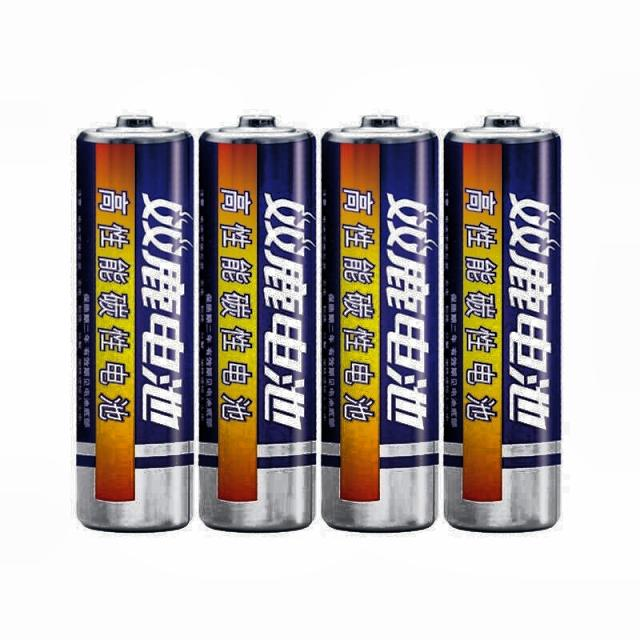Non-Valuable Waste - Batteries: (199, 116, 318, 531), (76, 116, 194, 531), (321, 116, 438, 531), (445, 116, 561, 531)
